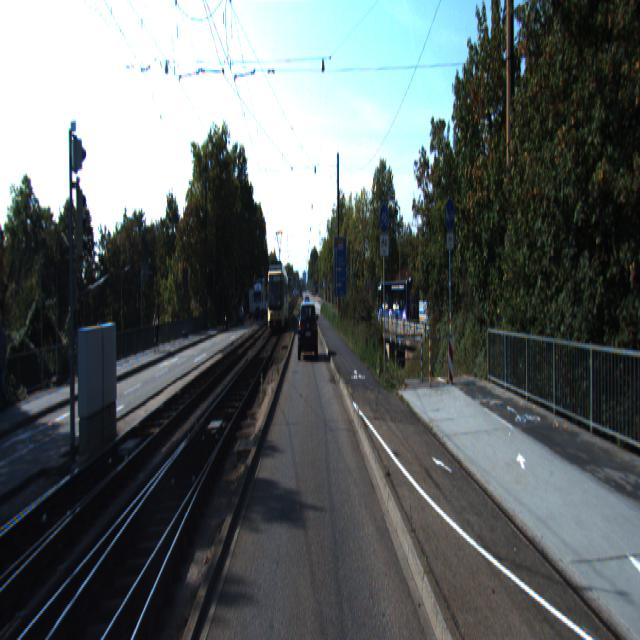Car: (376, 280, 421, 336), (268, 260, 288, 334), (298, 301, 317, 361)
